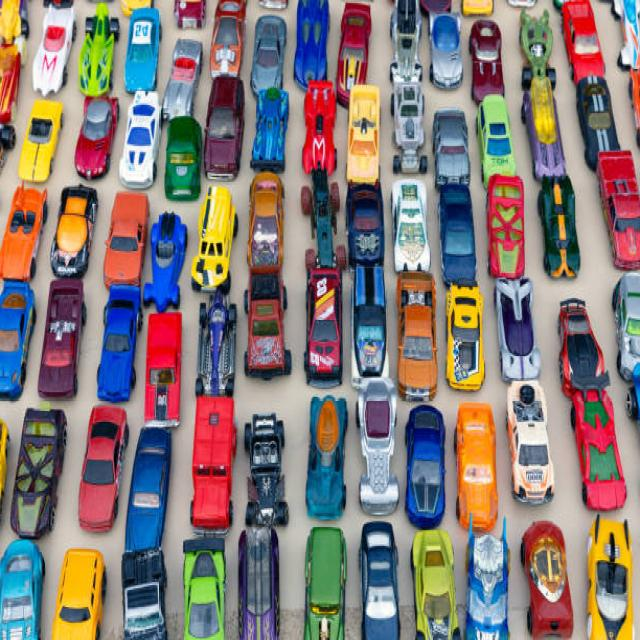Car: (352, 359, 397, 513), (458, 402, 497, 530), (398, 273, 437, 400), (447, 284, 483, 391), (407, 417, 443, 521), (394, 180, 430, 270), (347, 190, 383, 264)
